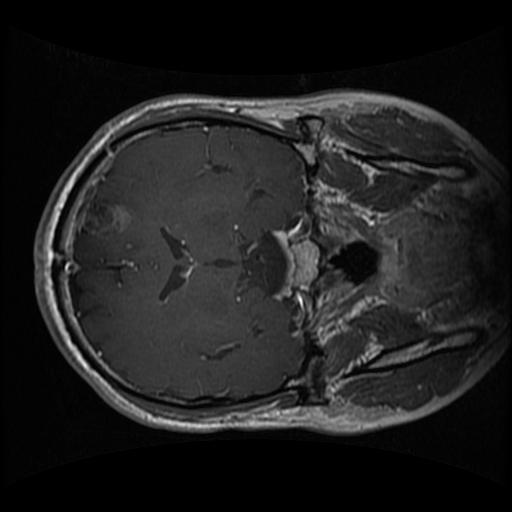glioma: (77, 200, 135, 242)
